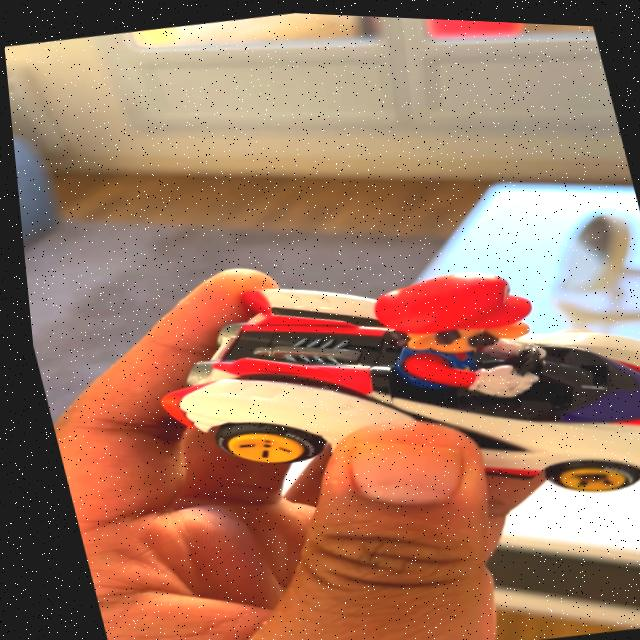mario: (94, 206, 640, 579)
